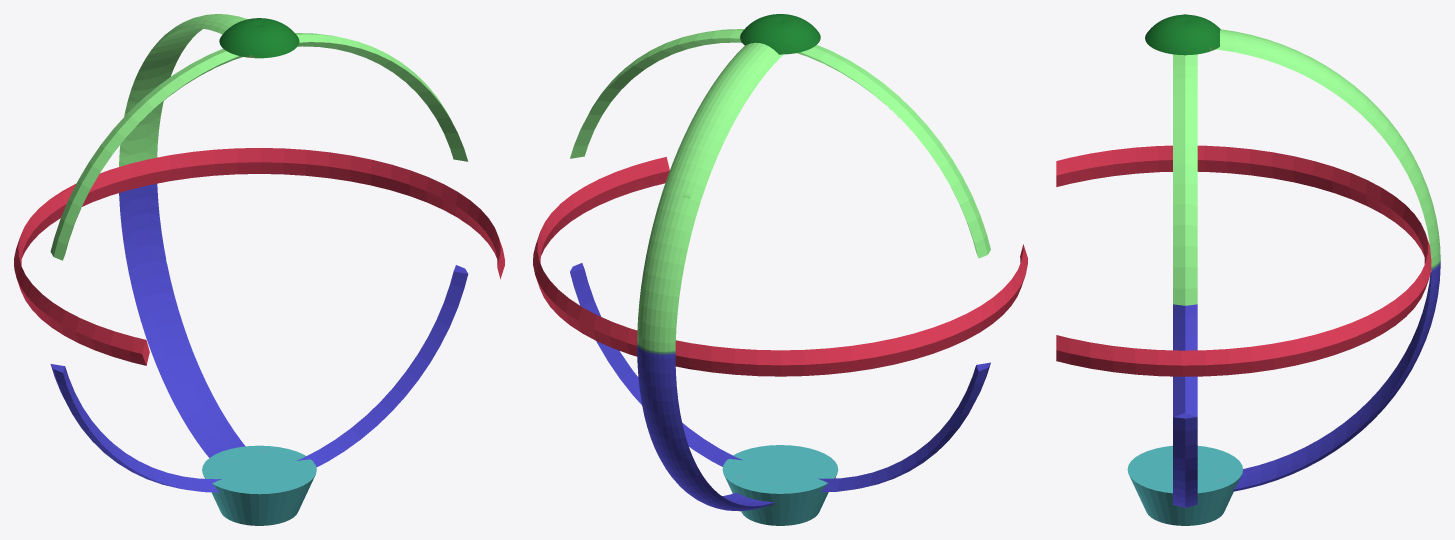
3 renders of one model, left to right at view 1: azimuth 30°, elevation 25°; view 2: azimuth 150°, elevation 25°; view 3: azimuth 270°, elevation 25°, orthographic.
Parts seen in each view (by area): view 1: 20140320_littleLine3; view 2: 20140320_littleLine3; view 3: 20140320_littleLine3.
Part boxes in pixels (bbox=[...]): 20140320_littleLine3: bbox=[14, 14, 504, 525]; 20140320_littleLine3: bbox=[533, 14, 1027, 525]; 20140320_littleLine3: bbox=[1056, 14, 1440, 525].
Bounding box in the file's own units: 73.36 × 79.9 × 57.02.
1 material, 1 textured.
